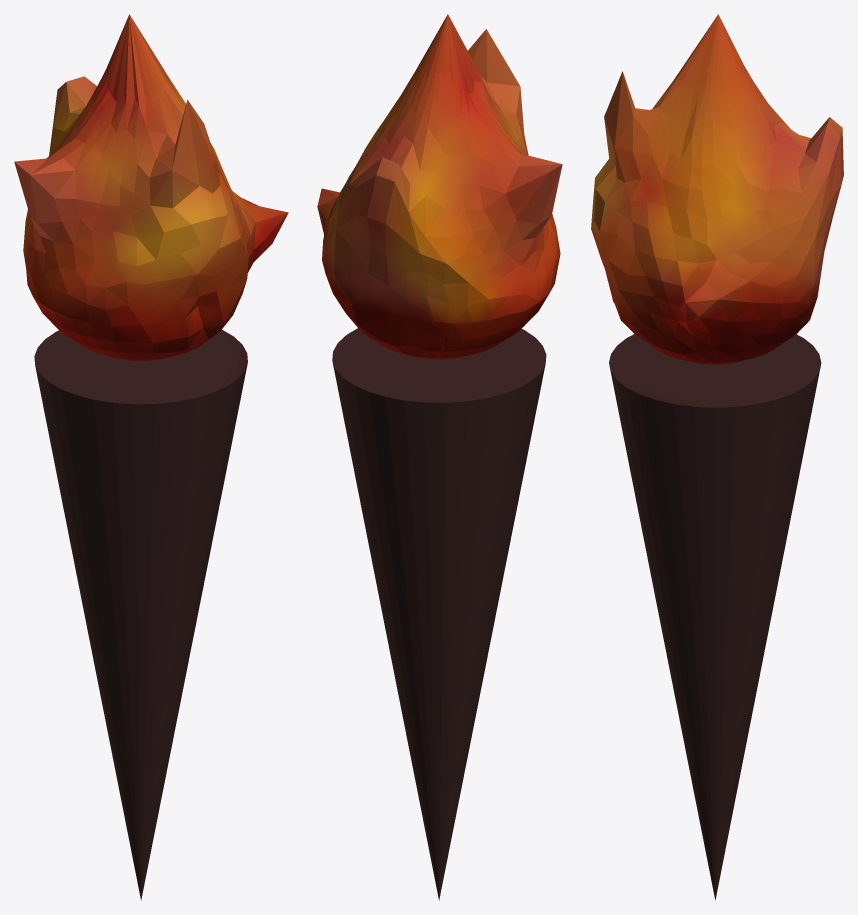
The model's file is torch.obj.
3 views of the same model, side by side, from view 1: azimuth 30°, elevation 25°; view 2: azimuth 150°, elevation 25°; view 3: azimuth 270°, elevation 25° (orthographic).
Parts seen in each view (by area): view 1: Cone; view 2: Cone; view 3: Cone.
Part boxes in pixels (<box>): Cone: <box>14,14,288,900</box>; Cone: <box>317,14,562,900</box>; Cone: <box>591,14,843,900</box>.
Size of the model in its own units: 0.8845 by 2.99 by 0.7771.
